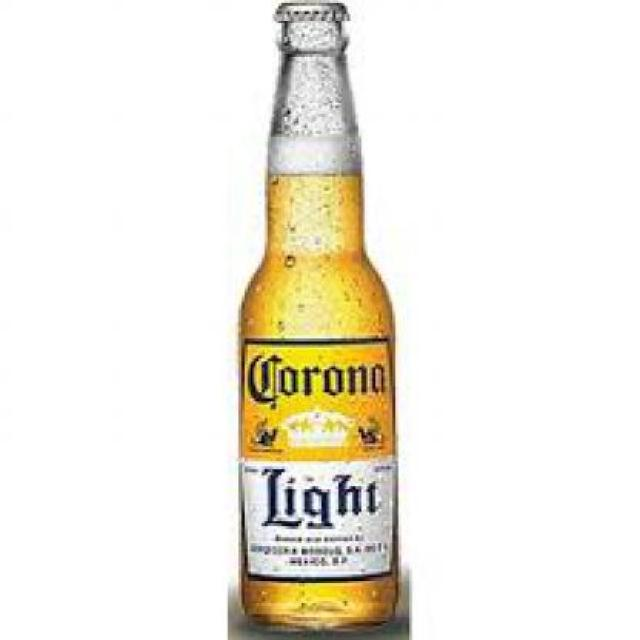GLASS: (233, 11, 398, 628)
METAL: (272, 0, 342, 17)
